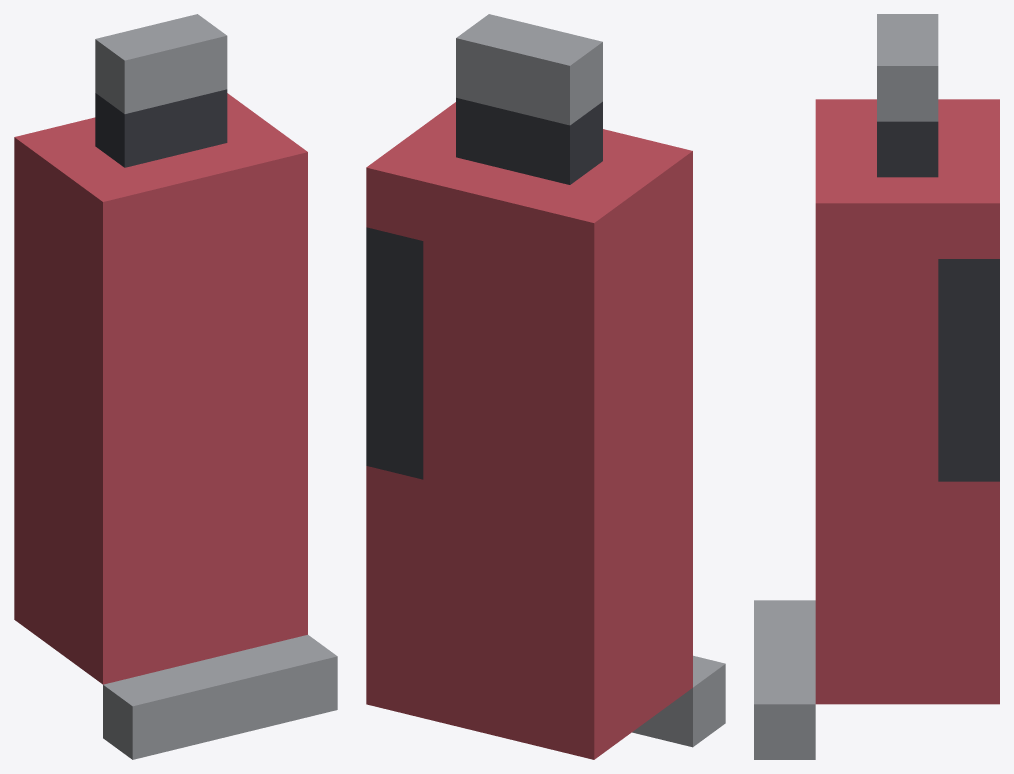
File: extincteur.glb
The picture shows the model from 3 angles, left to right: view 1: azimuth 30°, elevation 25°; view 2: azimuth 150°, elevation 25°; view 3: azimuth 270°, elevation 25°; orthographic projection. The views are drawn at different scales.
Visible parts, largest first — view 1: main; view 2: main; view 3: main.
Boxes of the visible parts, x1,y1,x2,y2 form: main: (14, 14, 337, 759); main: (366, 14, 725, 759); main: (754, 14, 999, 759).
Size of the model in its own units: 0.25 by 0.75 by 0.25.
